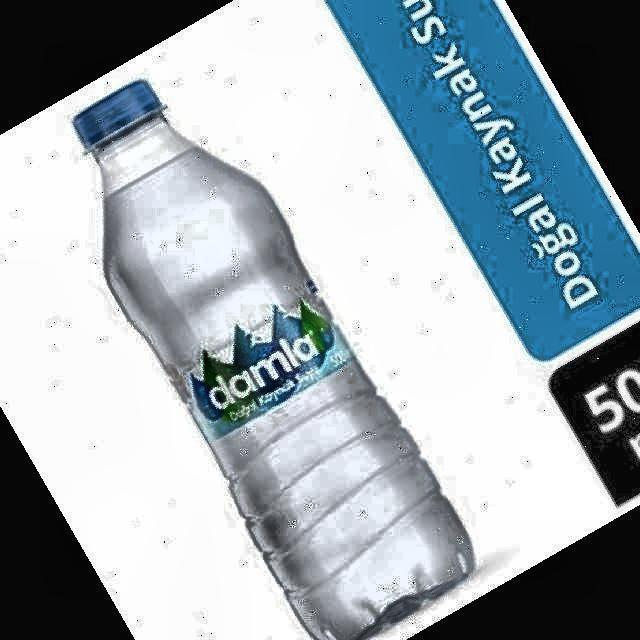plastic: (75, 81, 474, 640)
